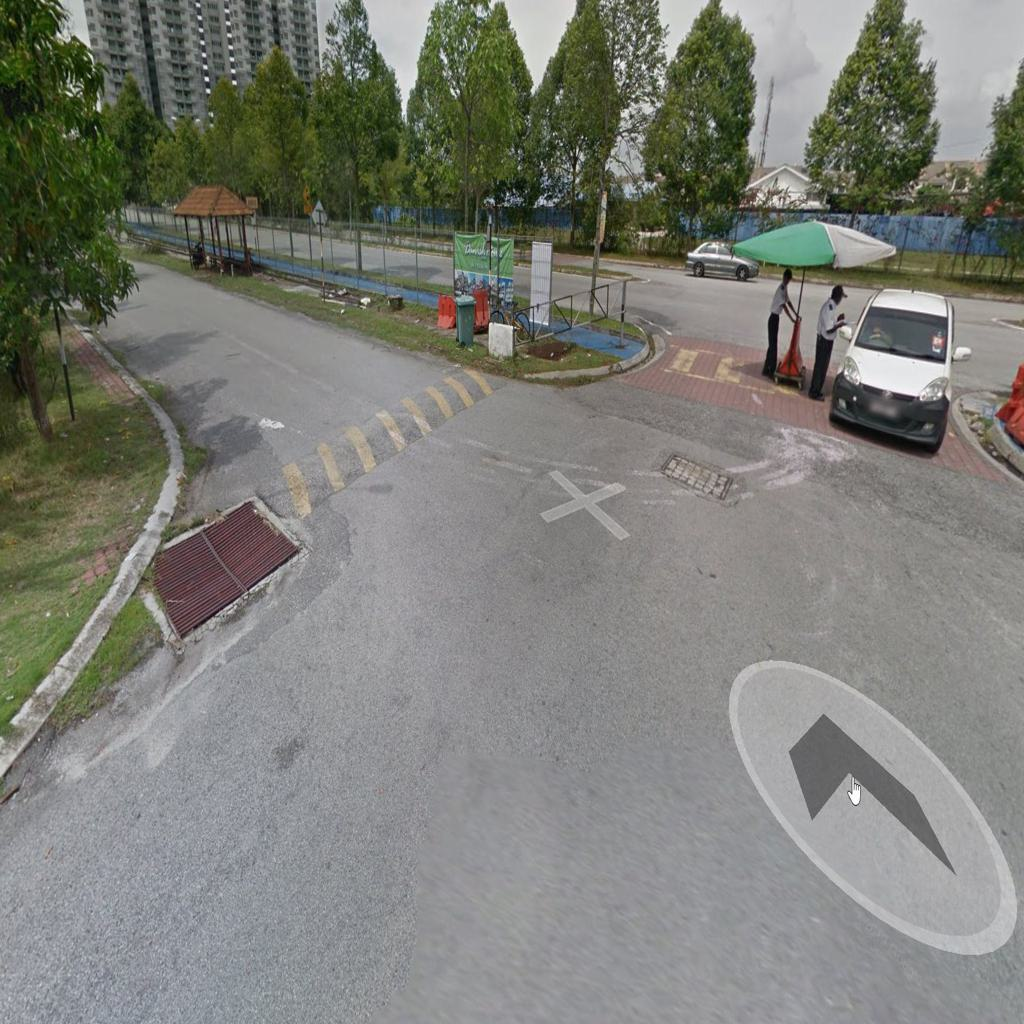Junction: (104, 292, 544, 598)
